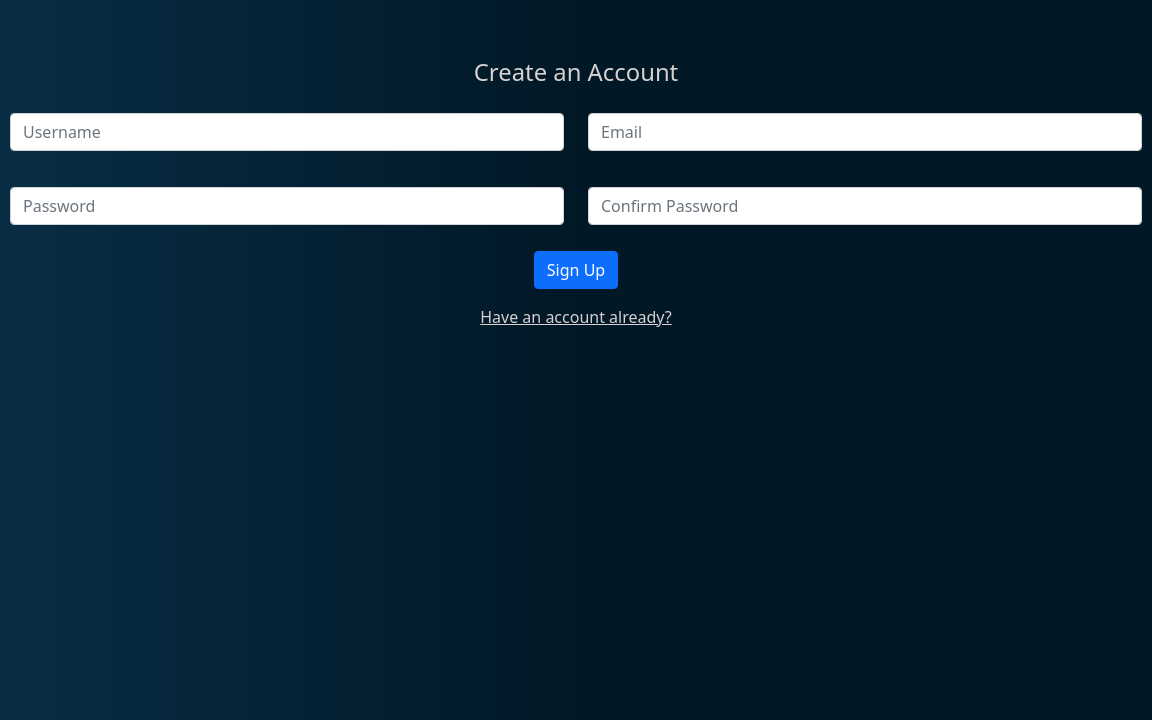
should return false for isValid function because passwords do not match
Type "password" into the password field with test id "signup-form-password-input-box" at (287, 206), box left=10, top=187, right=564, bottom=225
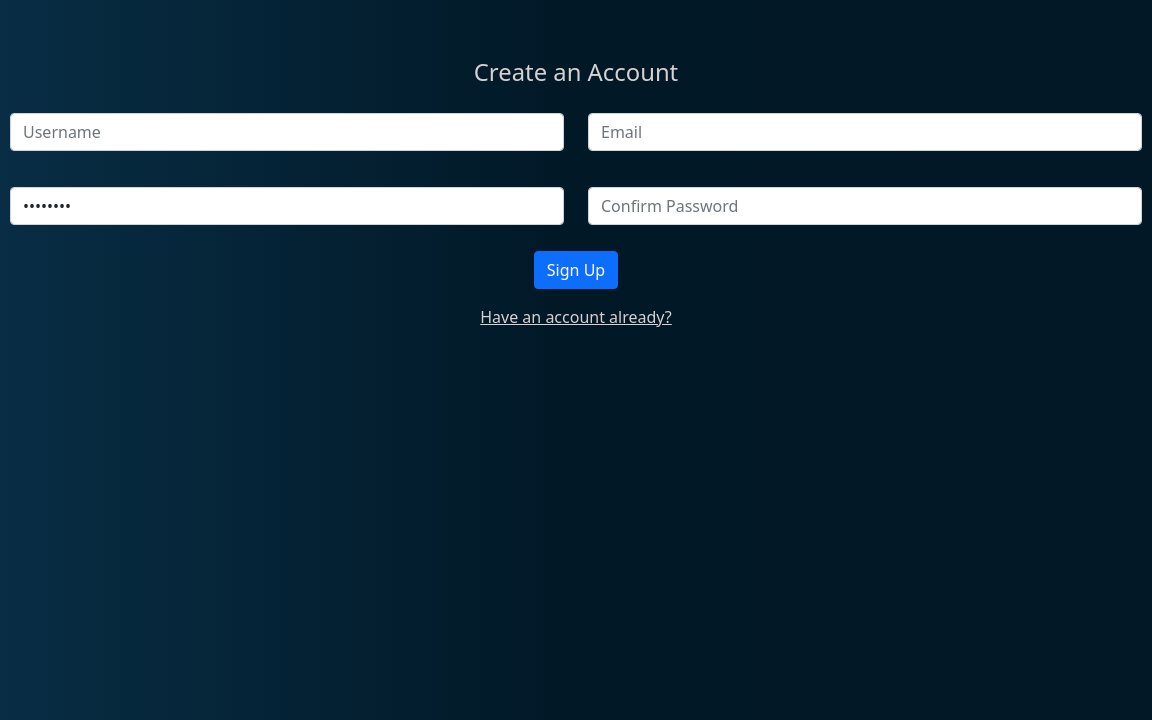
Submit the form with test id "signup-form", box left=0, top=58, right=1151, bottom=329
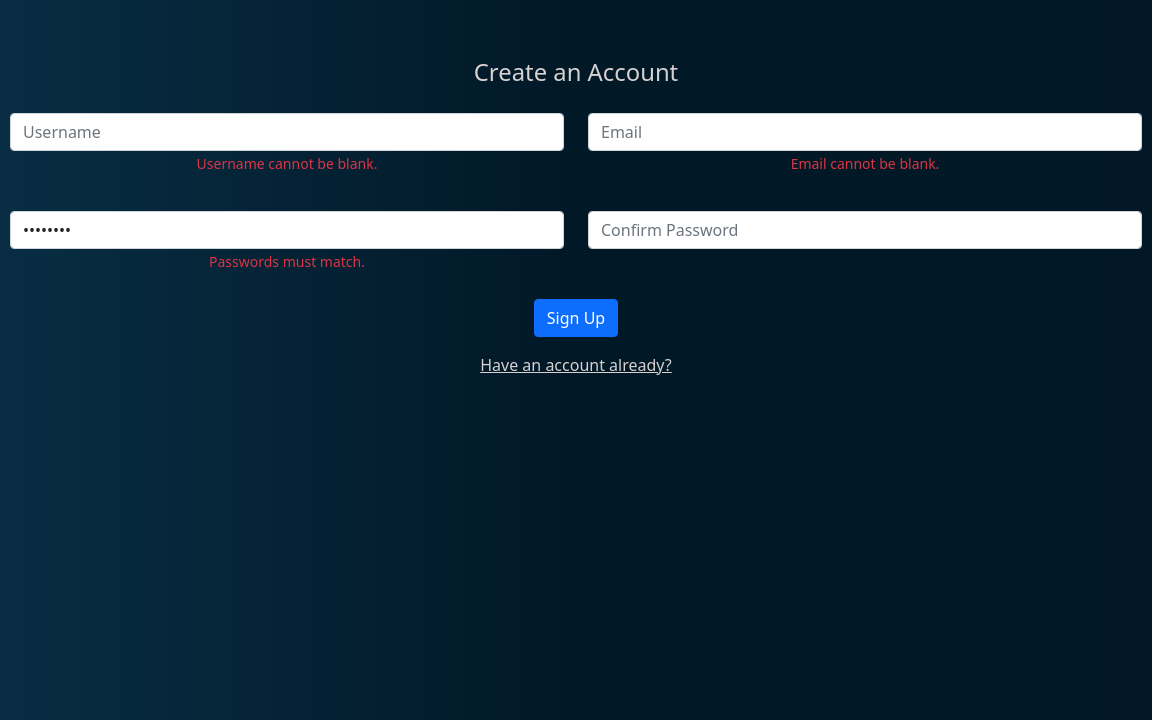
Check: the text with test id "signup-form-password-validator-error-text" reads "Passwords must match.", box left=209, top=252, right=365, bottom=271
